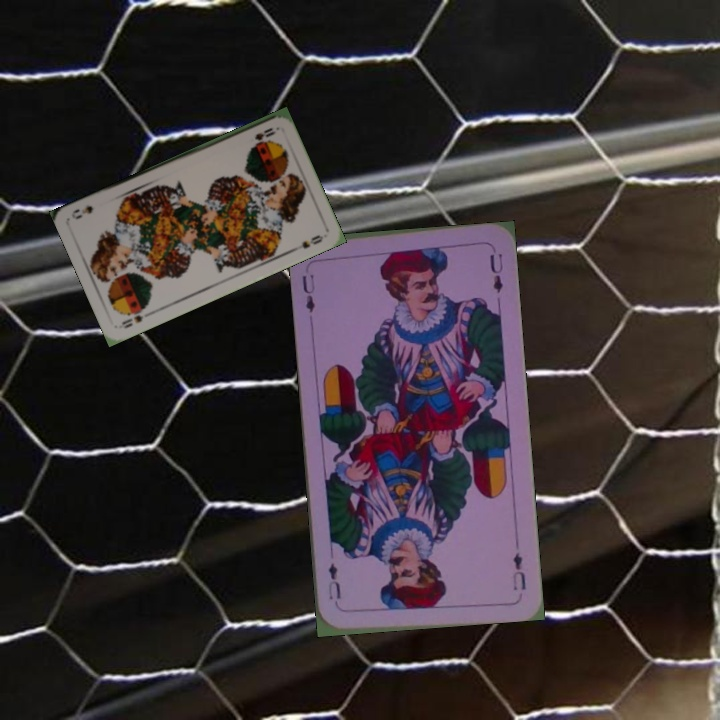EU: (298, 270, 318, 315), (508, 548, 528, 593)
SO: (118, 304, 149, 331), (251, 124, 278, 143)
